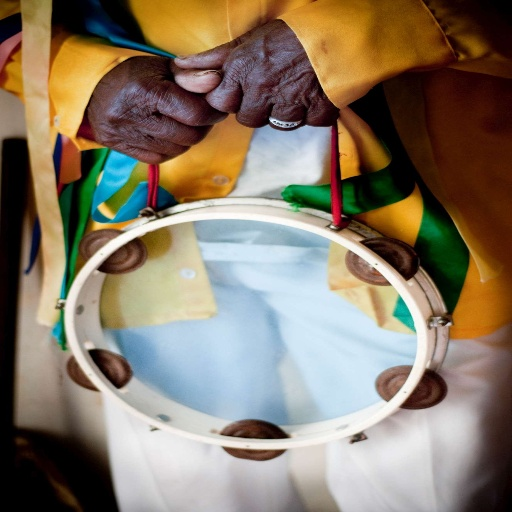hand: (82, 55, 231, 165), (191, 32, 333, 134)
